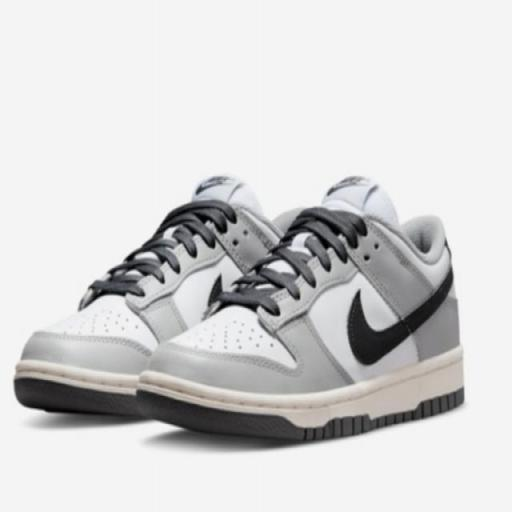Nike: (345, 285, 448, 363)
